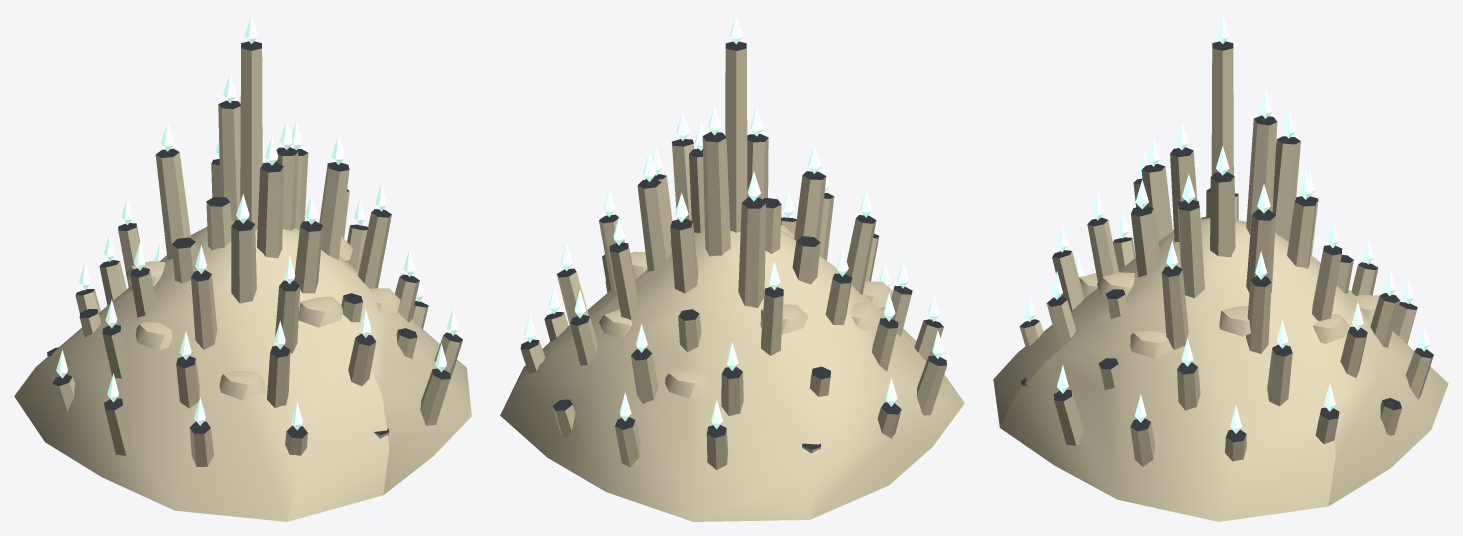
File: CandleHeap.fbx
3 views of the same model, side by side, from view 1: azimuth 30°, elevation 25°; view 2: azimuth 150°, elevation 25°; view 3: azimuth 270°, elevation 25° (orthographic).
Visible parts, largest first — view 1: CandleHeap; view 2: CandleHeap; view 3: CandleHeap.
Part boxes in pixels (x1,y1,x2,y2): CandleHeap: (14, 14, 471, 521); CandleHeap: (500, 14, 964, 521); CandleHeap: (993, 14, 1448, 521).
Bounding box in the file's own units: 1.17 × 1.15 × 1.18.
